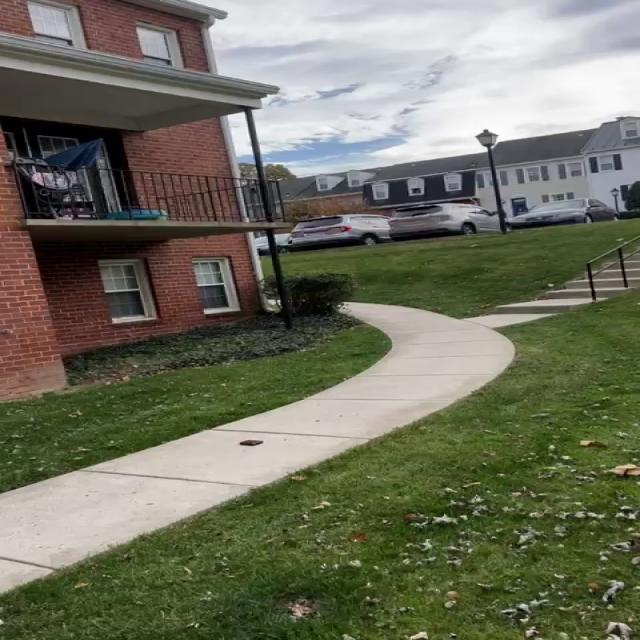wallet: (238, 439, 265, 447)
